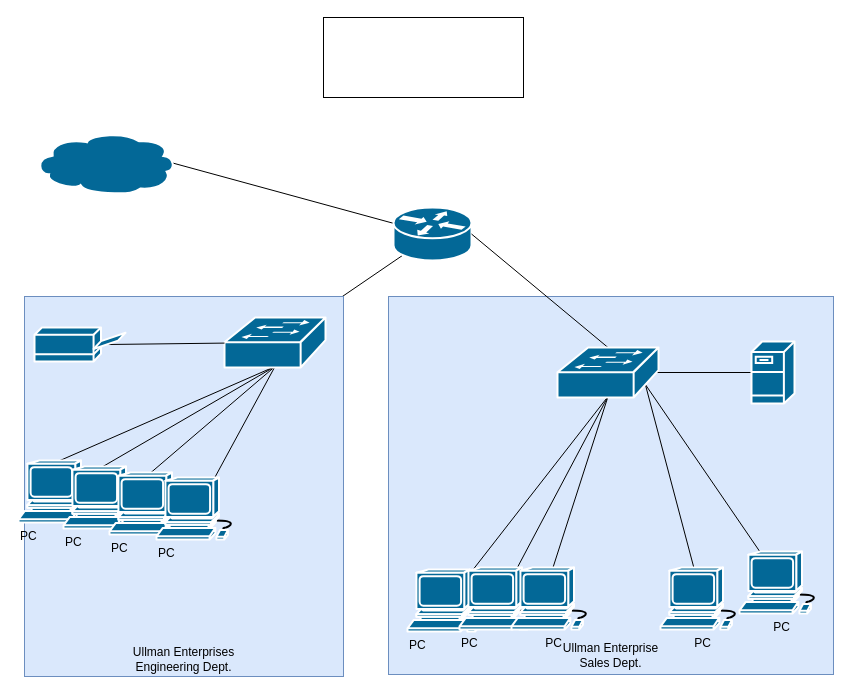
Some shapes in this 851 by 694 pixel diagram are drawn without their labels. Each missing label, with the centre of its shape:
"File Server" goes at pixel 772 372.
"Internet" goes at pixel 104 162.
"Printer" goes at pixel 79 344.
"Ullman Enterprise" goes at pixel 423 57.
